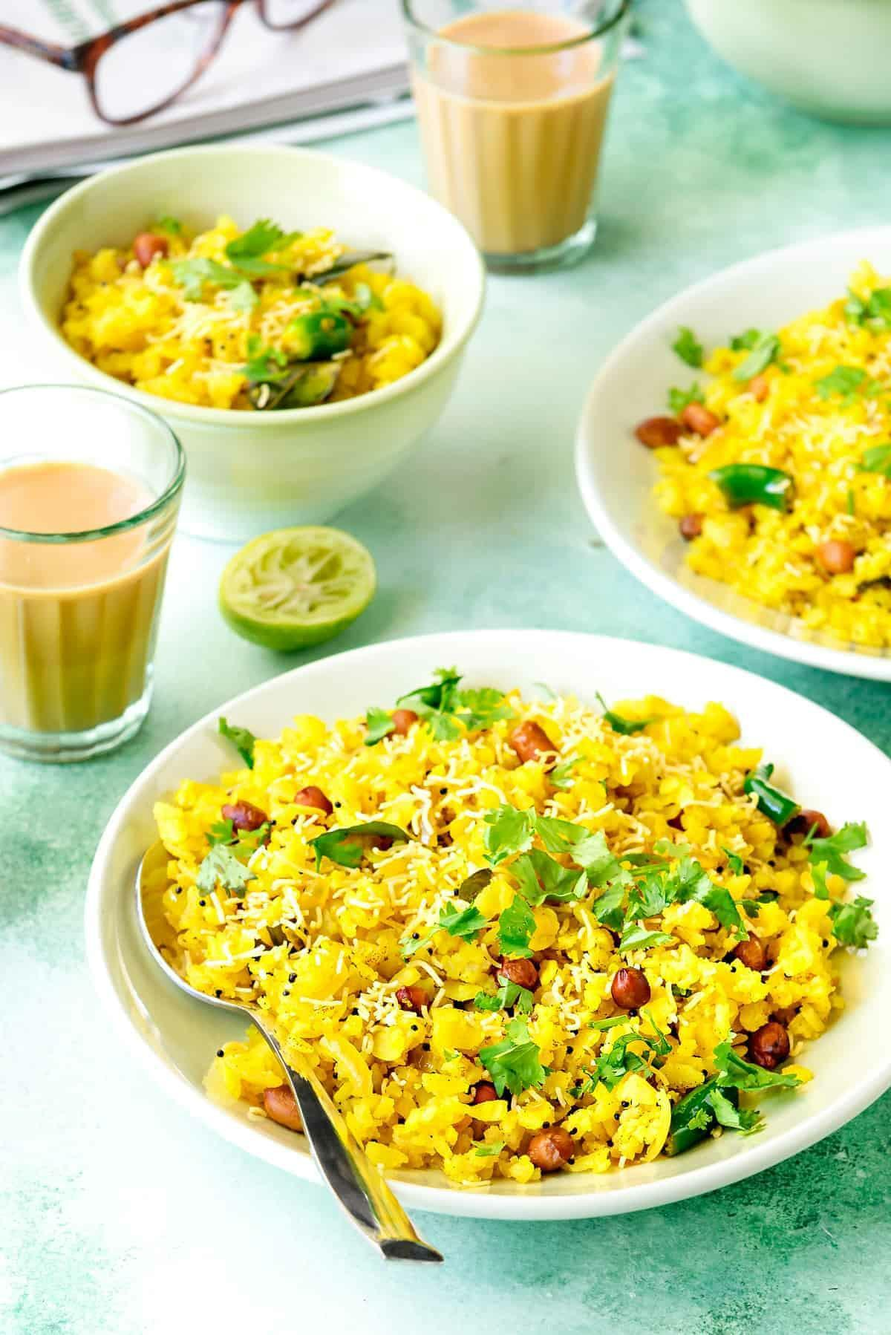Poha: (135, 672, 891, 1190), (53, 192, 453, 413)
